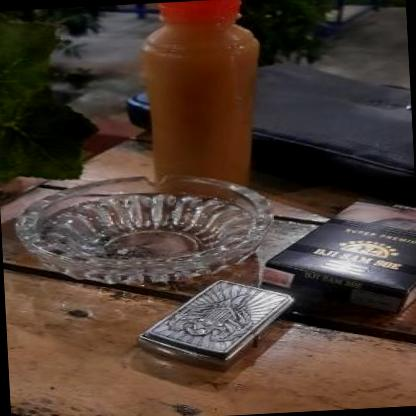objects: (257, 196, 416, 319)
